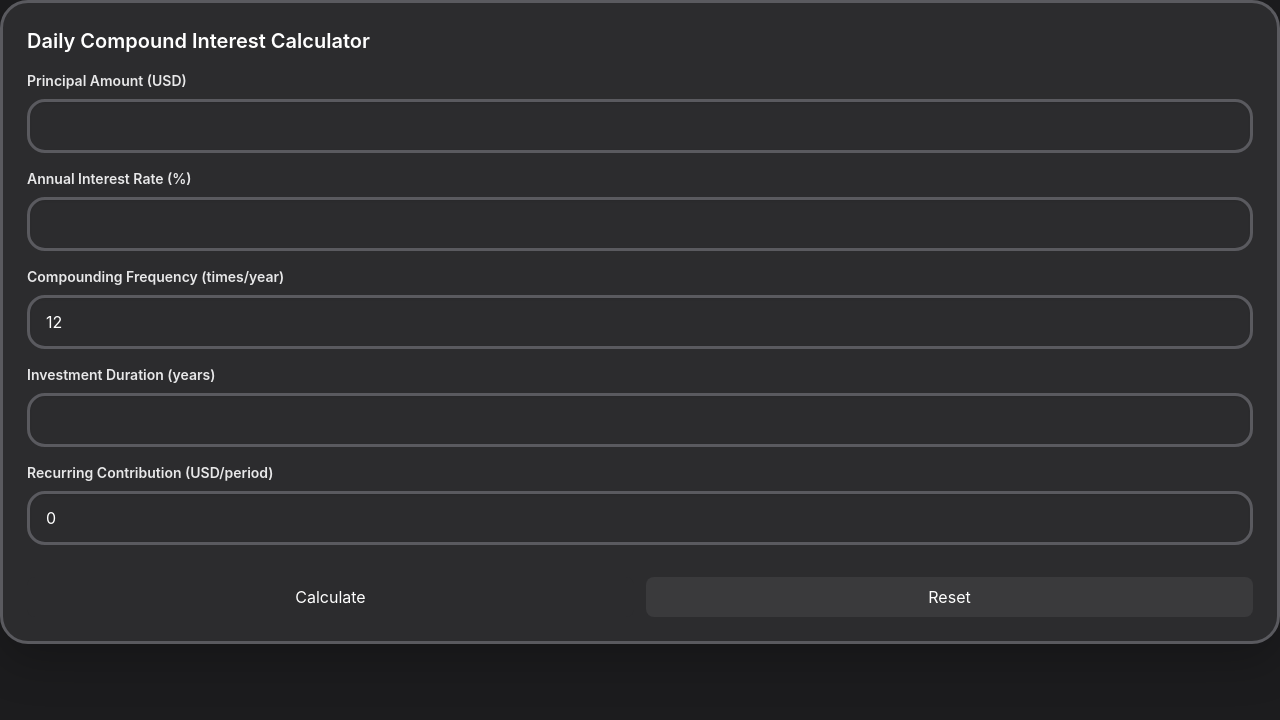
Scenario: CompoundInterestCalculator › shows validation error when principal is missing
Type "5" into the field labelled "Annual Interest Rate (%)" at (640, 224), box 27,197 -> 1253,251
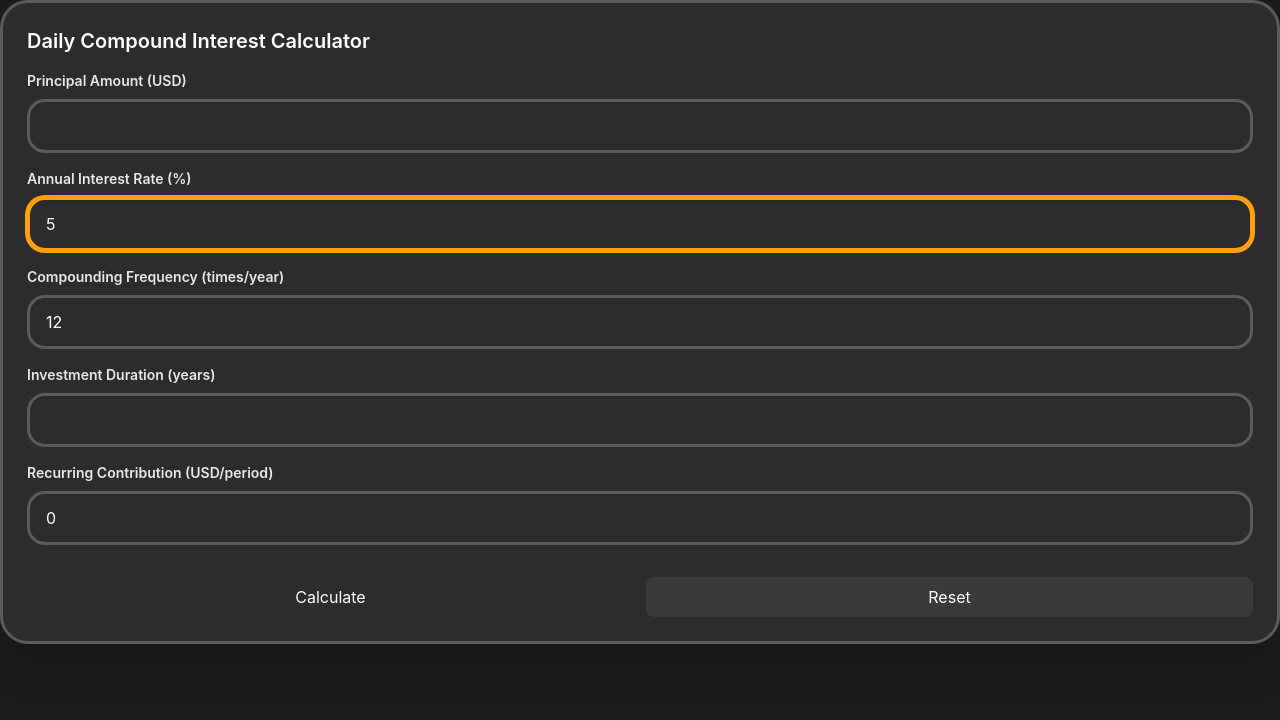
Type "10" into the field labelled "Investment Duration (years)" at (640, 420), box 27,393 -> 1253,447
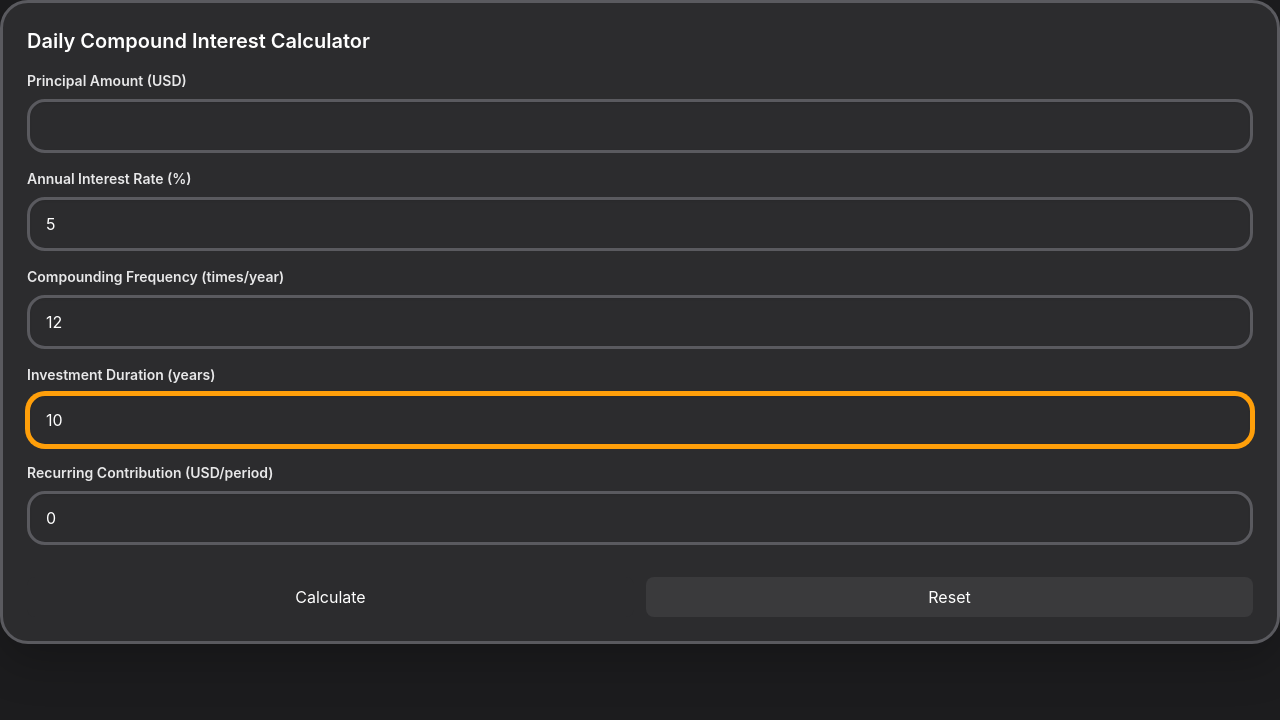
Click the button "Calculate" at (330, 597), box 27,577 -> 634,617
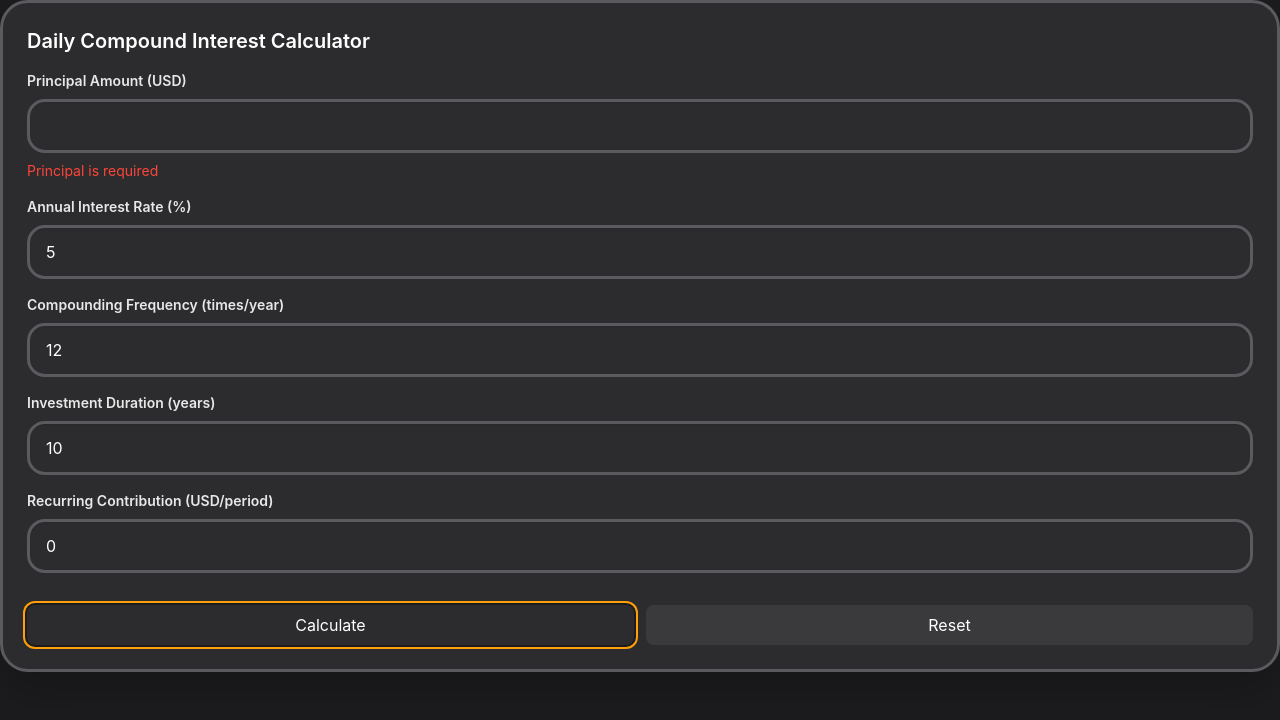
Expected: the text "Principal is required" is shown, 27,162 -> 158,179
